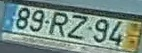4: (107, 19, 123, 47)
8: (14, 7, 31, 30)
9: (92, 18, 109, 44), (28, 8, 45, 33)
R: (48, 10, 69, 38)
Z: (66, 14, 89, 40)
